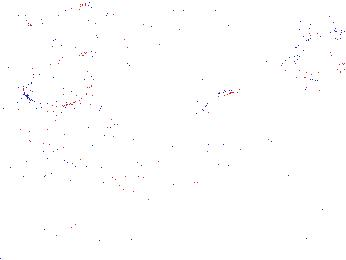moon jellyfish: (149, 15, 233, 91), (277, 22, 346, 94), (21, 45, 97, 109)
